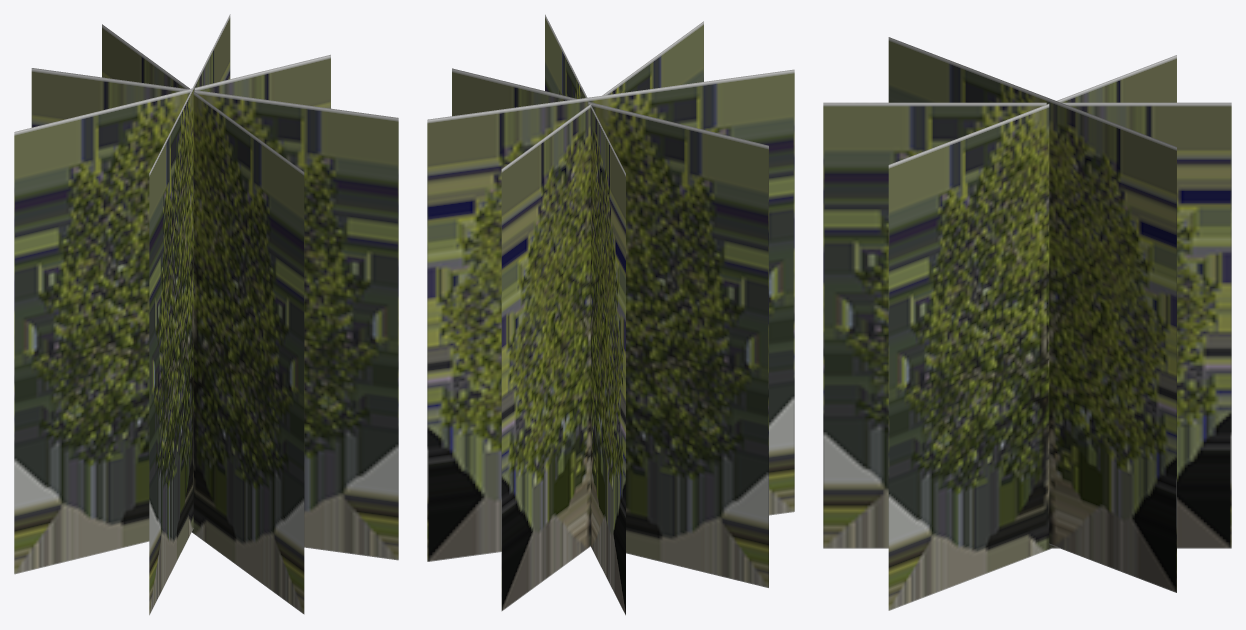
The model's file is tree.fbx.
3 renders of one model, left to right at view 1: azimuth 30°, elevation 25°; view 2: azimuth 150°, elevation 25°; view 3: azimuth 270°, elevation 25°, orthographic.
Visible parts, largest first — view 1: tree; view 2: tree; view 3: tree.
Boxes of the visible parts, bbox=[...] form: tree: bbox=[14, 14, 398, 615]; tree: bbox=[427, 14, 794, 615]; tree: bbox=[823, 37, 1231, 610].
Size of the model in its own units: 703 by 950 by 778.
Materials: 1 (1 with a texture image).
